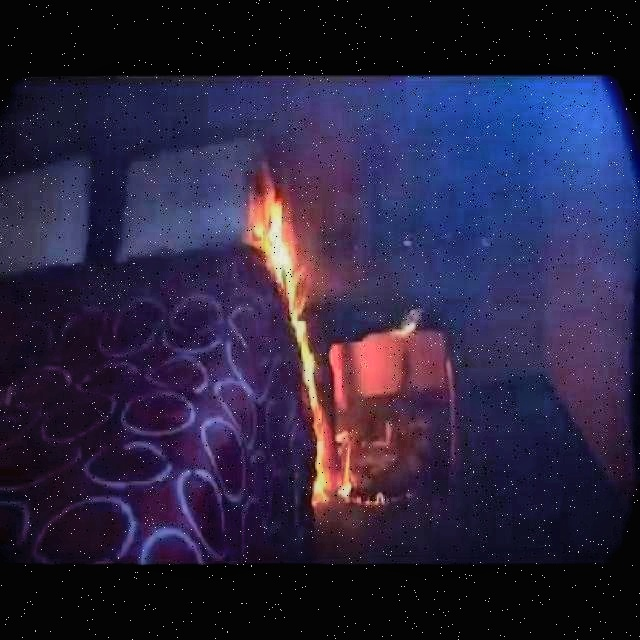fire: (227, 162, 396, 522)
